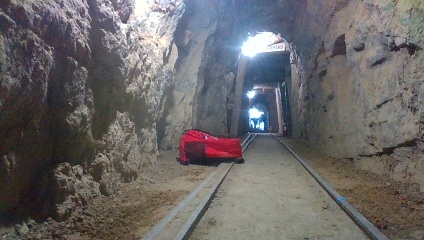backpack: (177, 128, 245, 166)
fire_extinguisher: (281, 120, 288, 138)
